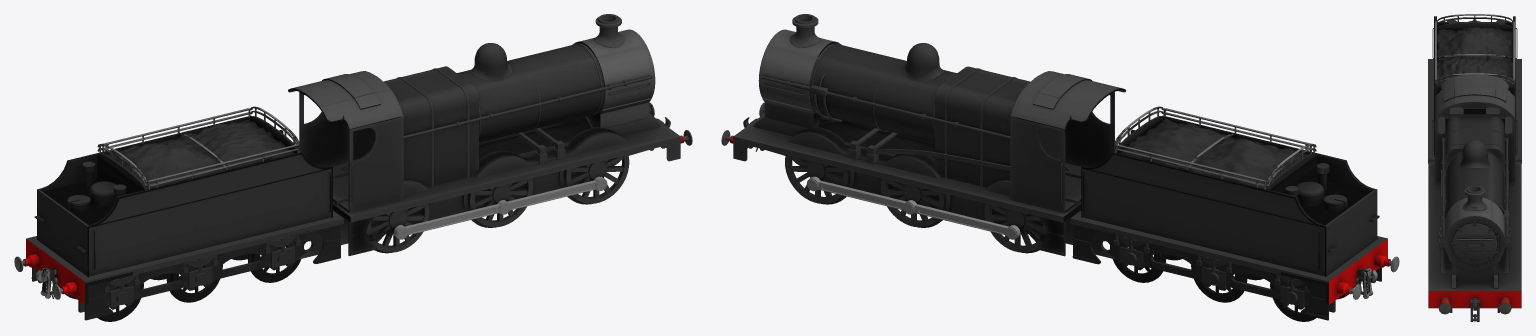
The model's file is lms-fowler-4f.glb.
The picture shows the model from 3 angles, left to right: view 1: azimuth 30°, elevation 25°; view 2: azimuth 150°, elevation 25°; view 3: azimuth 270°, elevation 25°; orthographic projection. The views are drawn at different scales.
Visible parts, largest first — view 1: Cube.001, lod_0_body.000, Cube.006, Cylinder.001, Cylinder.005, Cylinder.003, Cylinder.000, Cylinder.004; view 2: Cube.001, lod_0_body.000, Cube.006, Cylinder.001, Cylinder.005, Cylinder.003, Cylinder.000, Cylinder.004; view 3: Cube.001, lod_0_body.000.
Part boxes in pixels (x1,y1,x2,y2): Cube.001: (288, 14, 692, 255); lod_0_body.000: (14, 106, 343, 320); Cube.006: (393, 176, 607, 239); Cylinder.001: (559, 155, 629, 204); Cylinder.005: (340, 163, 429, 253); Cylinder.003: (463, 178, 533, 227); Cylinder.000: (150, 265, 222, 302); Cylinder.004: (232, 246, 303, 282); Cube.001: (721, 14, 1125, 256); lod_0_body.000: (1070, 106, 1399, 320); Cube.006: (807, 176, 1020, 239); Cylinder.001: (785, 155, 855, 204); Cylinder.005: (984, 163, 1073, 253); Cylinder.003: (881, 178, 951, 227); Cylinder.000: (1191, 265, 1263, 302); Cylinder.004: (1110, 245, 1181, 282); Cube.001: (1428, 74, 1521, 321); lod_0_body.000: (1428, 14, 1521, 163).
Size of the model in its own units: 16.14 by 4.14 by 2.6.
2 materials, 2 textured.
